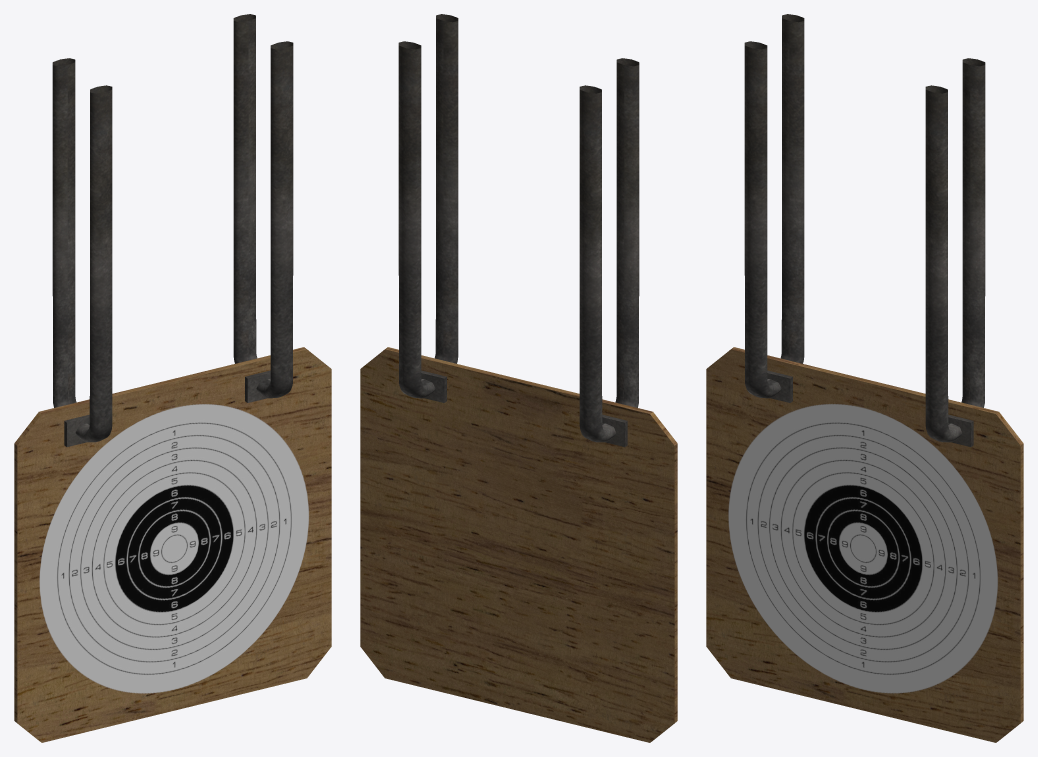
3 renders of one model, left to right at view 1: azimuth 30°, elevation 25°; view 2: azimuth 150°, elevation 25°; view 3: azimuth 330°, elevation 25°, orthographic.
Parts seen in each view (by area): view 1: LowPoly.003; view 2: LowPoly.003; view 3: LowPoly.003.
Part boxes in pixels (x1,y1,x2,y2): LowPoly.003: (14,14,331,742); LowPoly.003: (360,14,677,742); LowPoly.003: (706,14,1023,742).
Bounding box in the file's own units: 512 × 1020 × 127.
Materials: 1 (1 with a texture image).
